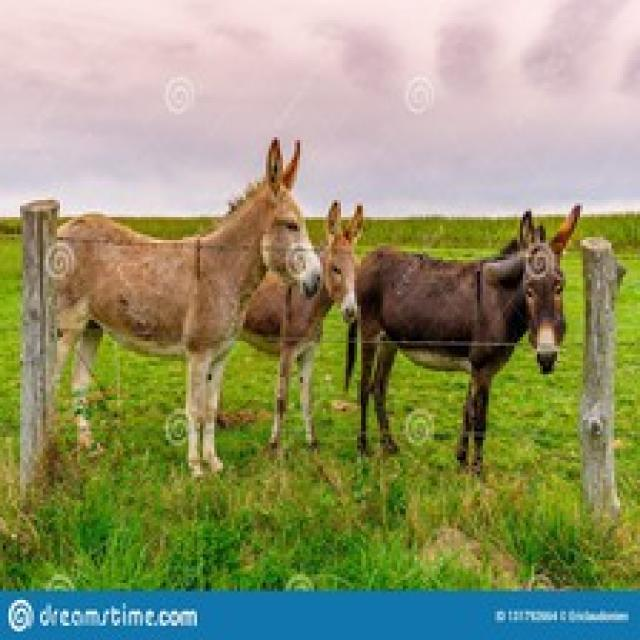Donkey: (32, 151, 312, 514), (320, 186, 604, 459), (217, 160, 382, 464)
